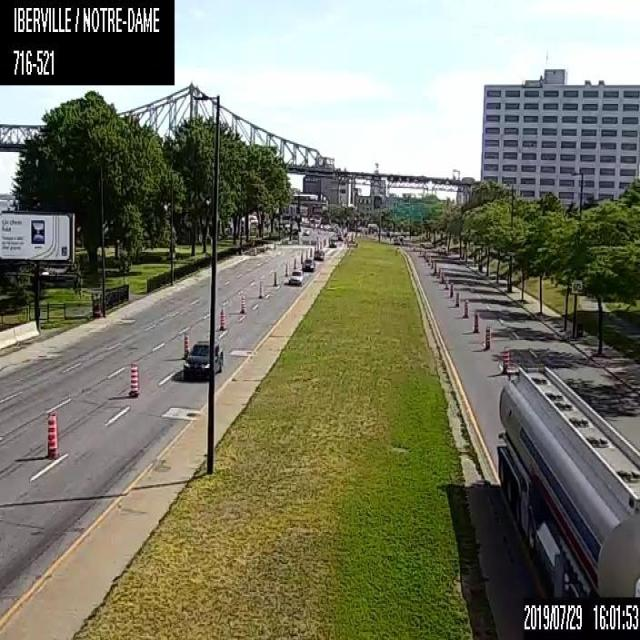construction: (46, 411, 58, 457), (128, 361, 138, 396), (182, 329, 189, 359), (501, 345, 508, 371), (218, 308, 224, 329), (485, 324, 490, 349), (240, 291, 245, 312), (473, 312, 478, 332), (463, 297, 468, 316), (455, 290, 459, 308), (259, 279, 263, 296), (449, 281, 453, 296), (273, 270, 276, 286), (284, 262, 287, 278), (299, 251, 302, 264), (433, 260, 436, 273), (437, 265, 440, 277), (444, 276, 447, 288), (293, 257, 296, 268), (305, 248, 308, 258), (441, 269, 443, 283), (309, 247, 311, 256), (319, 240, 321, 247)
vehicle: (496, 363, 639, 596), (181, 339, 209, 381), (214, 338, 224, 378), (288, 269, 304, 286), (302, 258, 315, 272), (314, 248, 324, 260), (328, 236, 337, 246)
